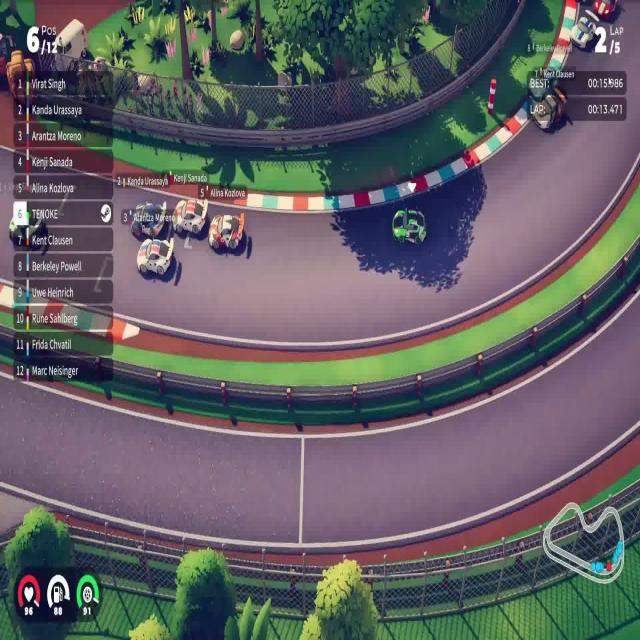car: (208, 210, 245, 253), (172, 195, 208, 238), (391, 205, 427, 247), (130, 200, 167, 240), (136, 240, 174, 276)
